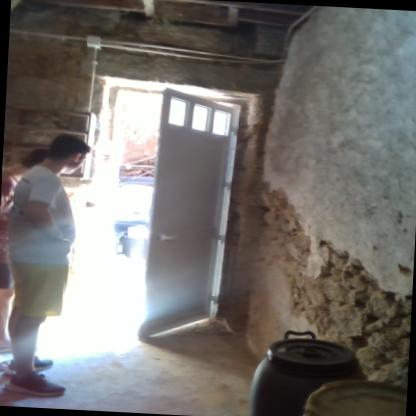semi: (80, 68, 248, 348)
